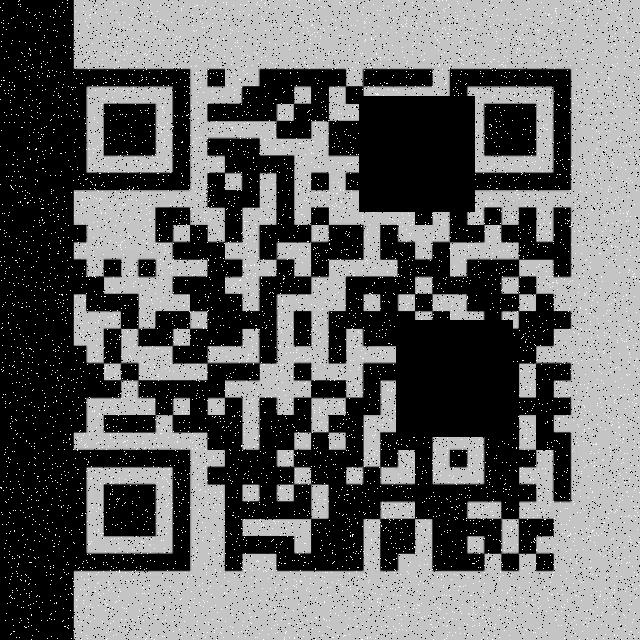QR_CODE: (48, 50, 598, 595)
